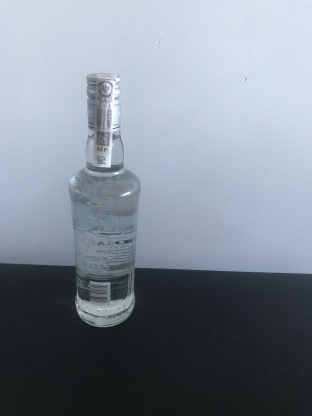nakretka: (84, 68, 124, 133)
